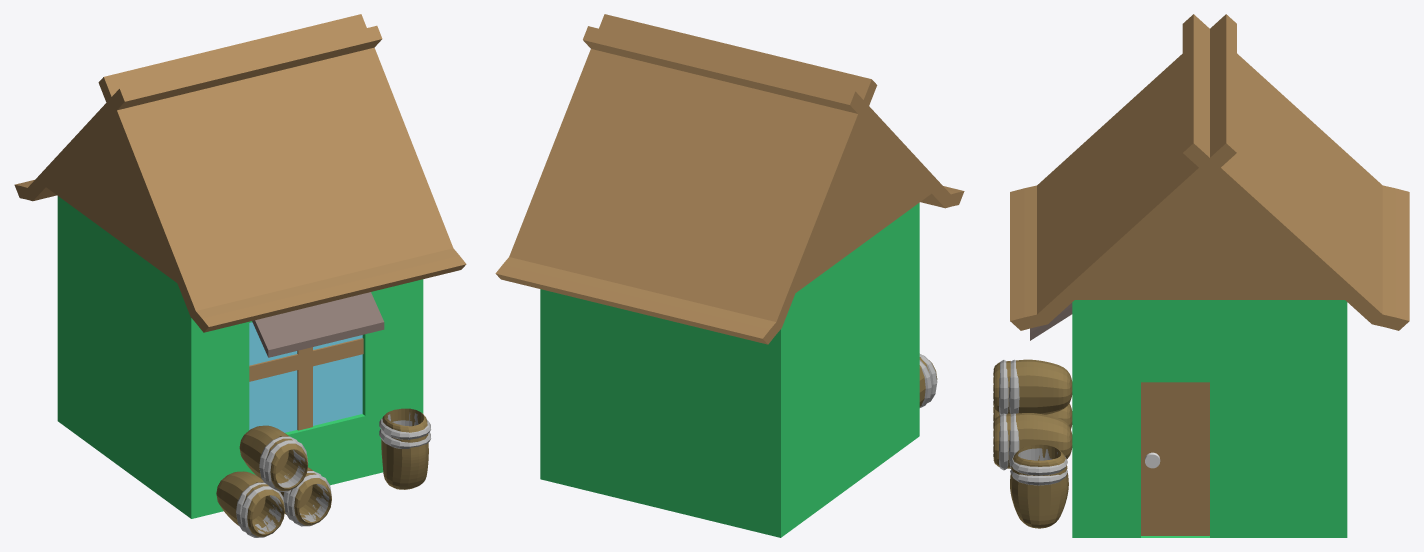
The model's file is casa vila verde.fbx.
The picture shows the model from 3 angles, left to right: view 1: azimuth 30°, elevation 25°; view 2: azimuth 150°, elevation 25°; view 3: azimuth 270°, elevation 25°; orthographic projection. The views are drawn at different scales.
Visible parts, largest first — view 1: Cube.001, Cube, Cube.002, Cube.005, Cube.007, Cube.009, Cube.006, Cube.003, Cube.008; view 2: Cube.001, Cube, Cube.006; view 3: Cube.001, Cube, Cube.004, Cube.007, Cube.009, Cube.008.
Part boxes in pixels (bbox=[...]): Cube.001: bbox=[14, 14, 466, 332]; Cube: bbox=[57, 196, 423, 518]; Cube.002: bbox=[249, 322, 362, 432]; Cube.005: bbox=[252, 292, 384, 357]; Cube.007: bbox=[379, 408, 431, 489]; Cube.009: bbox=[239, 425, 308, 491]; Cube.006: bbox=[216, 471, 284, 537]; Cube.003: bbox=[249, 338, 363, 430]; Cube.008: bbox=[280, 467, 331, 526]; Cube.001: bbox=[495, 14, 964, 344]; Cube: bbox=[540, 203, 919, 537]; Cube.006: bbox=[919, 354, 937, 407]; Cube.001: bbox=[1010, 14, 1409, 330]; Cube: bbox=[1072, 300, 1347, 537]; Cube.004: bbox=[1141, 382, 1209, 535]; Cube.007: bbox=[1010, 444, 1068, 528]; Cube.009: bbox=[993, 359, 1072, 414]; Cube.008: bbox=[993, 413, 1072, 470].
Size of the model in its own units: 200 by 293 by 273.
